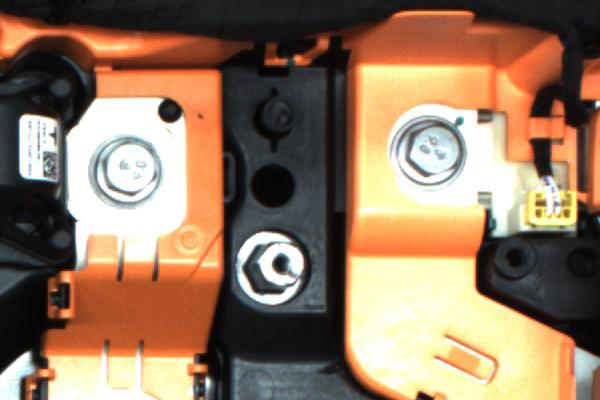nut_b: (379, 114, 485, 197), (86, 131, 171, 206)
